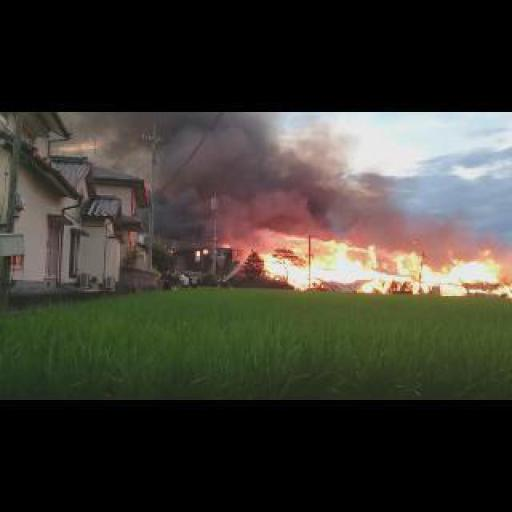smoke: (118, 112, 480, 240), (264, 243, 510, 301), (168, 248, 173, 253)
